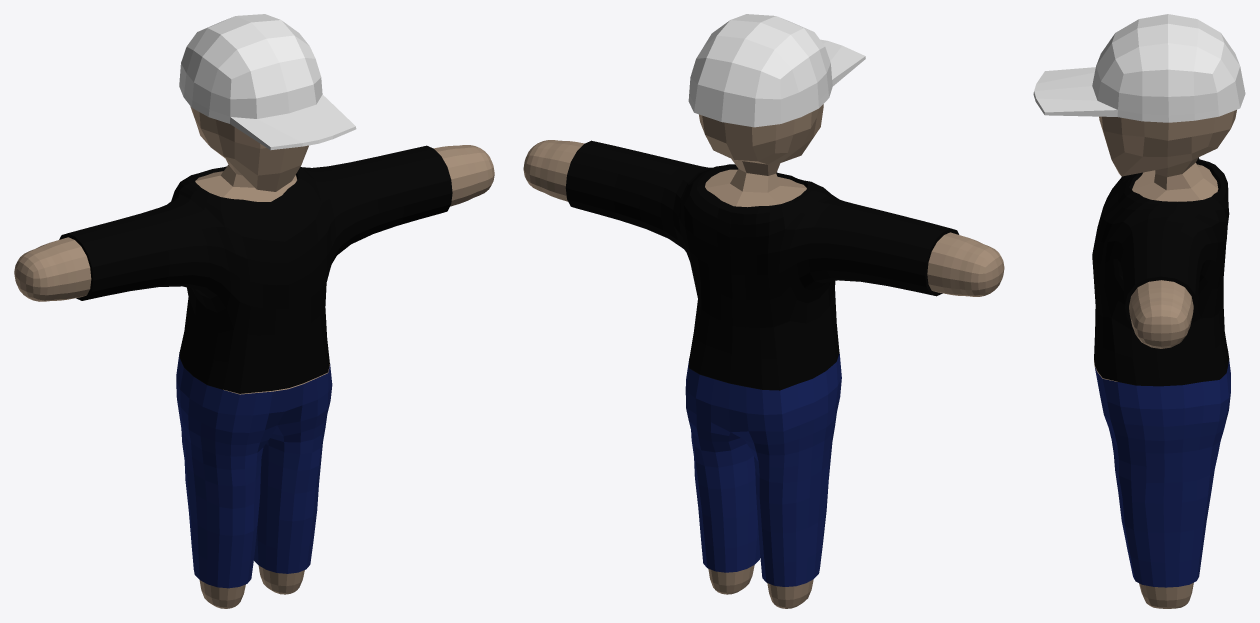
The model's file is Mod8.glb.
3 renders of one model, left to right at view 1: azimuth 30°, elevation 25°; view 2: azimuth 150°, elevation 25°; view 3: azimuth 270°, elevation 25°, orthographic.
Visible parts, largest first — view 1: Modelo 1b; view 2: Modelo 1b; view 3: Modelo 1b.
Part boxes in pixels (x1,y1,x2,y2): Modelo 1b: [14, 14, 494, 608]; Modelo 1b: [523, 14, 1004, 608]; Modelo 1b: [1033, 14, 1245, 608].
Bounding box in the file's own units: 7.96 × 9.27 × 3.15.
